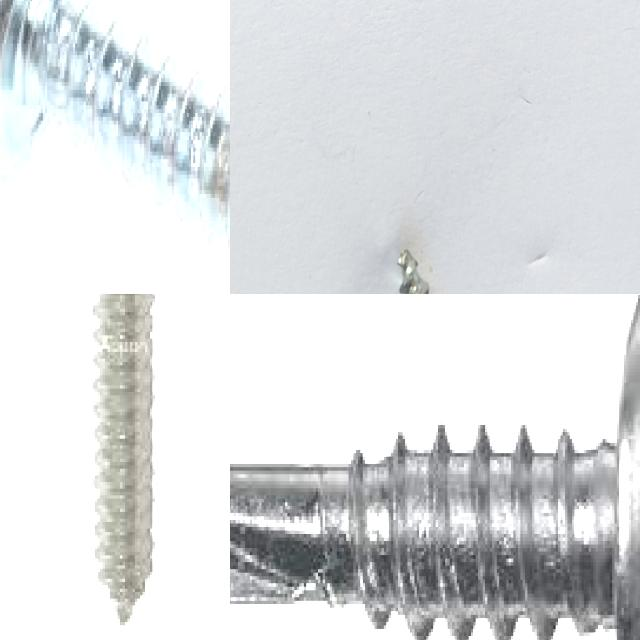Screw: (230, 303, 640, 640), (0, 0, 230, 267), (95, 294, 158, 625)
